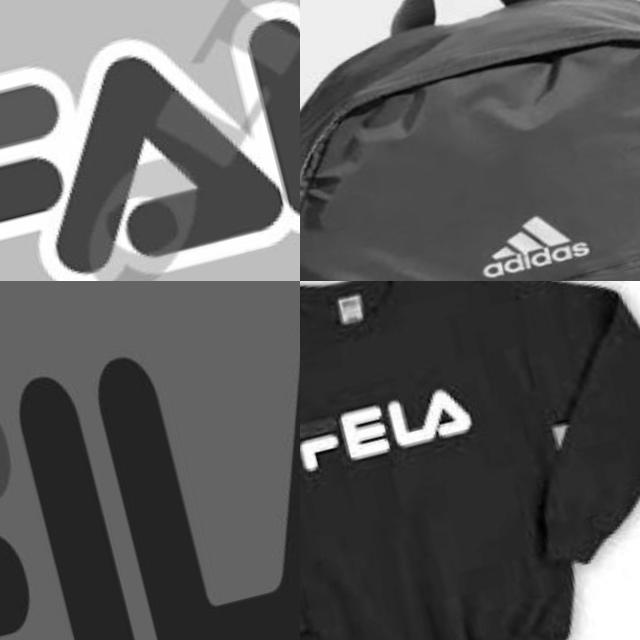ADIDAS_original: (415, 158, 627, 281)
FILA_fake: (0, 0, 300, 281), (300, 343, 488, 497)
FILA_original: (0, 281, 300, 640)
